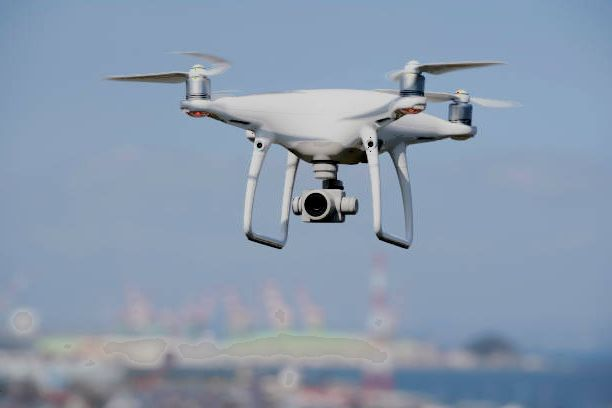Drone: (104, 45, 527, 254)
